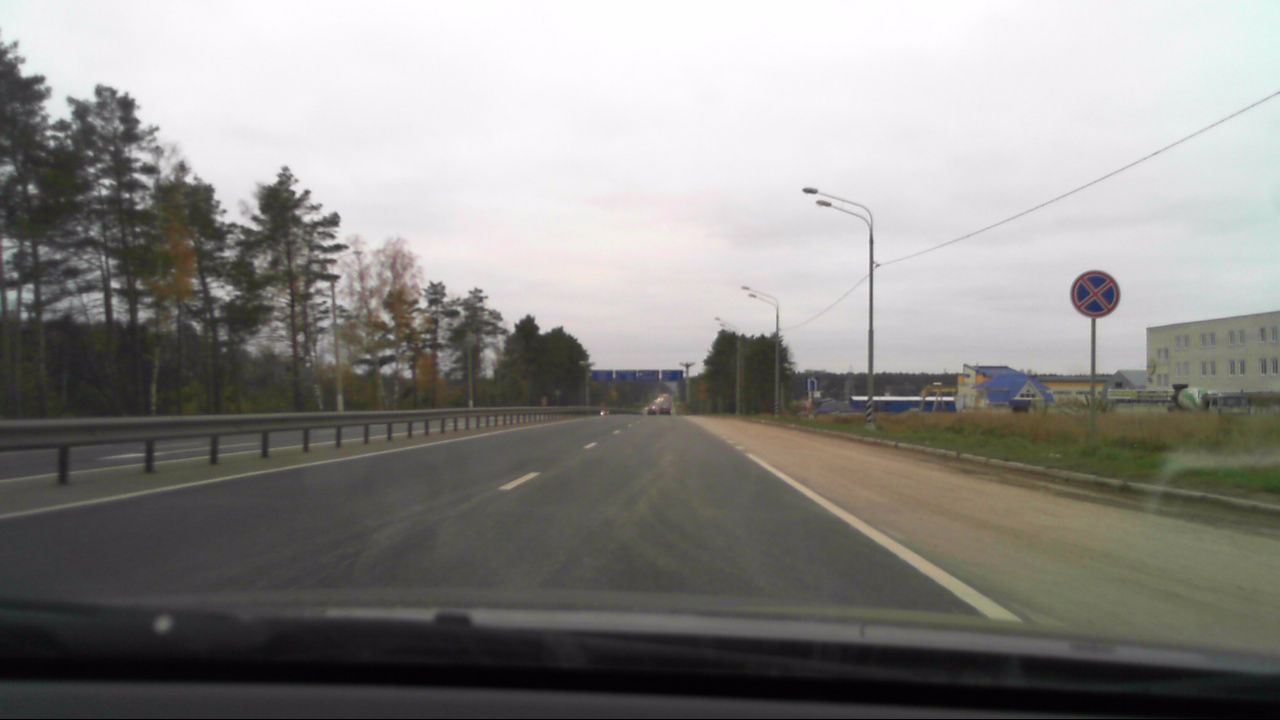No Parking: (1072, 270, 1121, 317)
